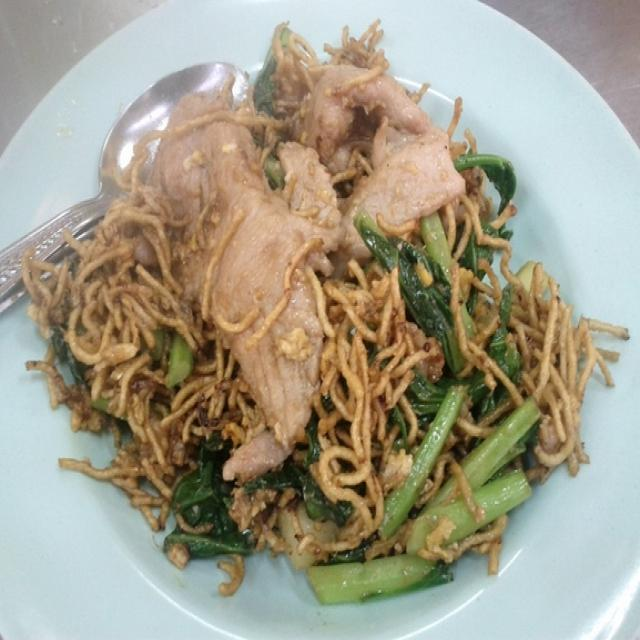面条主食: (3, 7, 636, 624)
